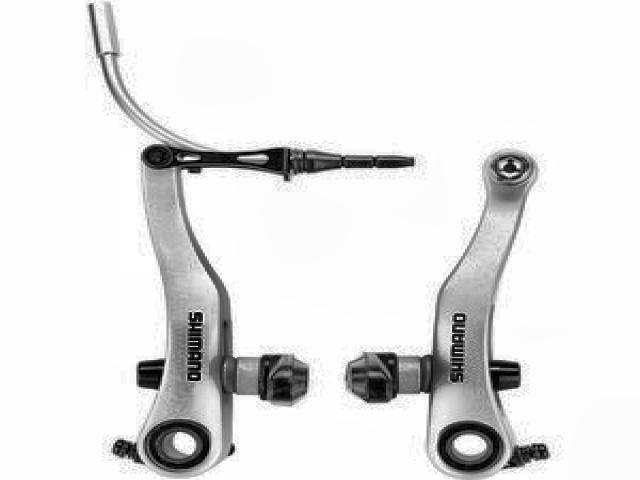rim_brake: (114, 138, 551, 471)
